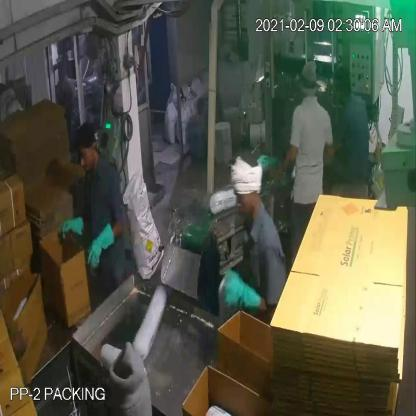glove: (217, 261, 265, 320), (84, 221, 120, 272), (54, 202, 93, 244)
no_glove: (268, 137, 300, 184)
